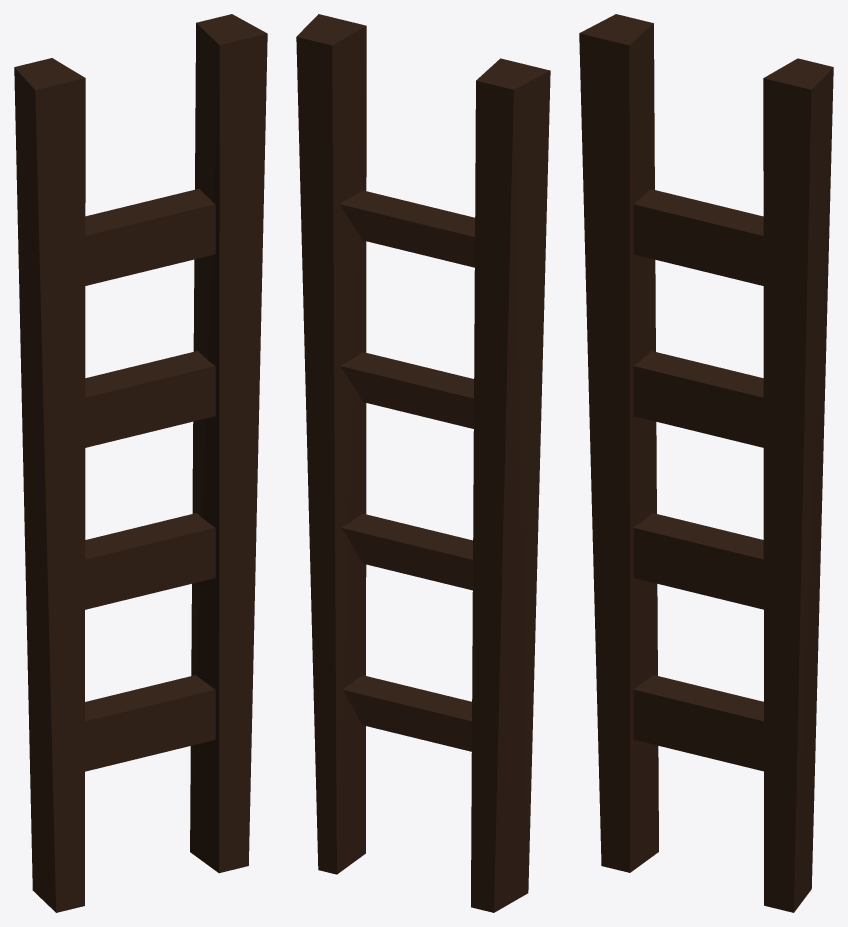
Rendered from Cave_Lair_Wooden_Timber_Ladder_01.fbx.
3 views of the same model, side by side, from view 1: azimuth 30°, elevation 25°; view 2: azimuth 150°, elevation 25°; view 3: azimuth 330°, elevation 25° (orthographic).
Parts seen in each view (by area): view 1: Cave_Lair_Wooden_Timber_Ladder_01; view 2: Cave_Lair_Wooden_Timber_Ladder_01; view 3: Cave_Lair_Wooden_Timber_Ladder_01.
Part boxes in pixels (x1=…): Cave_Lair_Wooden_Timber_Ladder_01: x1=14, y1=14, x2=267, y2=912; Cave_Lair_Wooden_Timber_Ladder_01: x1=296, y1=14, x2=550, y2=912; Cave_Lair_Wooden_Timber_Ladder_01: x1=579, y1=14, x2=833, y2=912.
Size of the model in its own units: 0.5448 by 1.86 by 0.1205.
